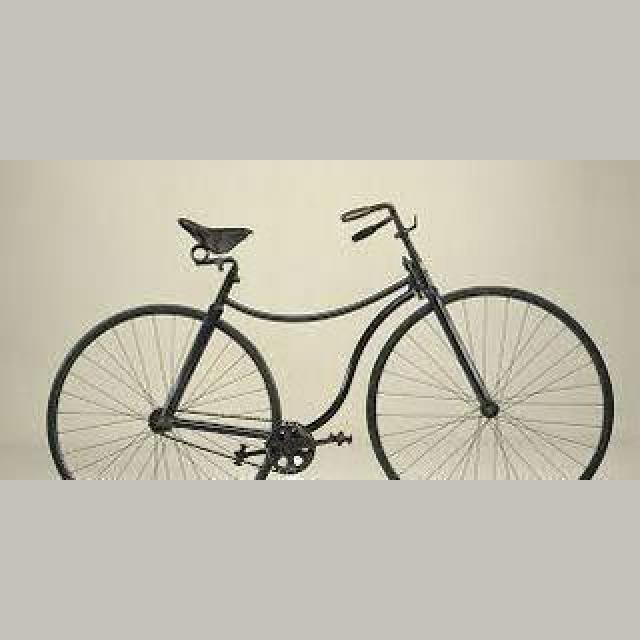Person: (44, 196, 616, 480)
